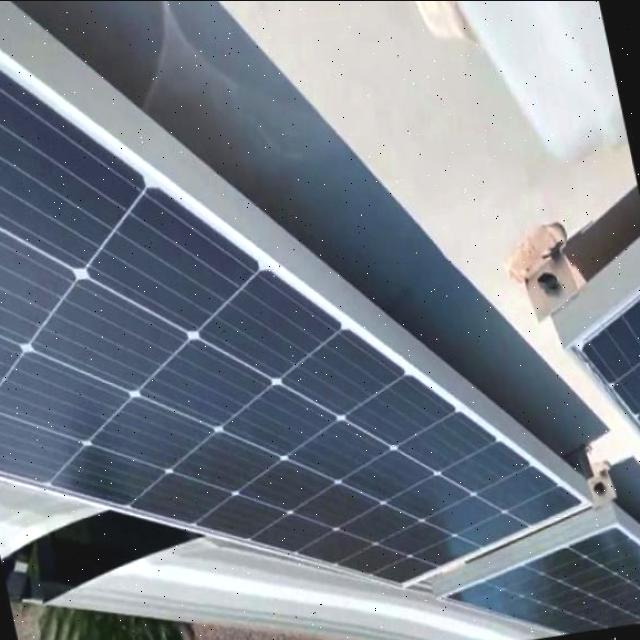Normal Solar Panel: (0, 0, 601, 640), (426, 502, 639, 640), (554, 267, 640, 572)
